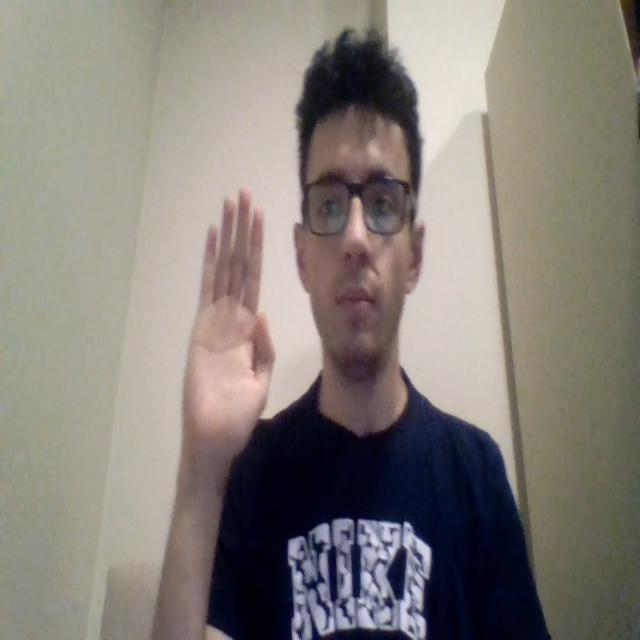hello: (178, 185, 276, 490)
